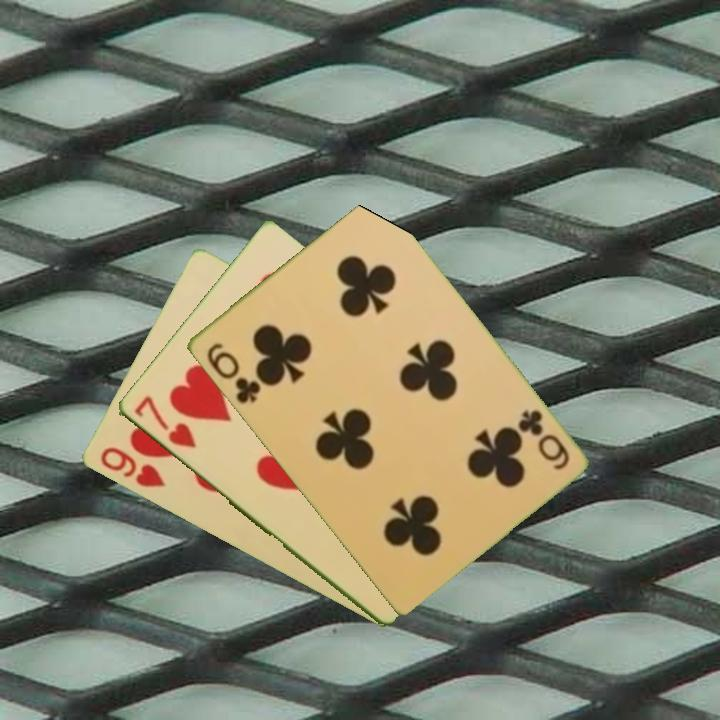6c: (202, 339, 264, 407), (513, 405, 572, 473)
7h: (129, 392, 199, 451)
9h: (96, 443, 168, 491)
